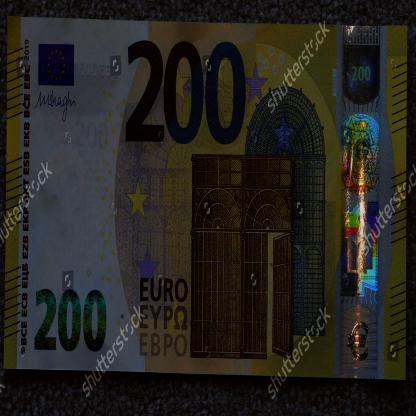euro_banknote: (6, 21, 412, 375)
